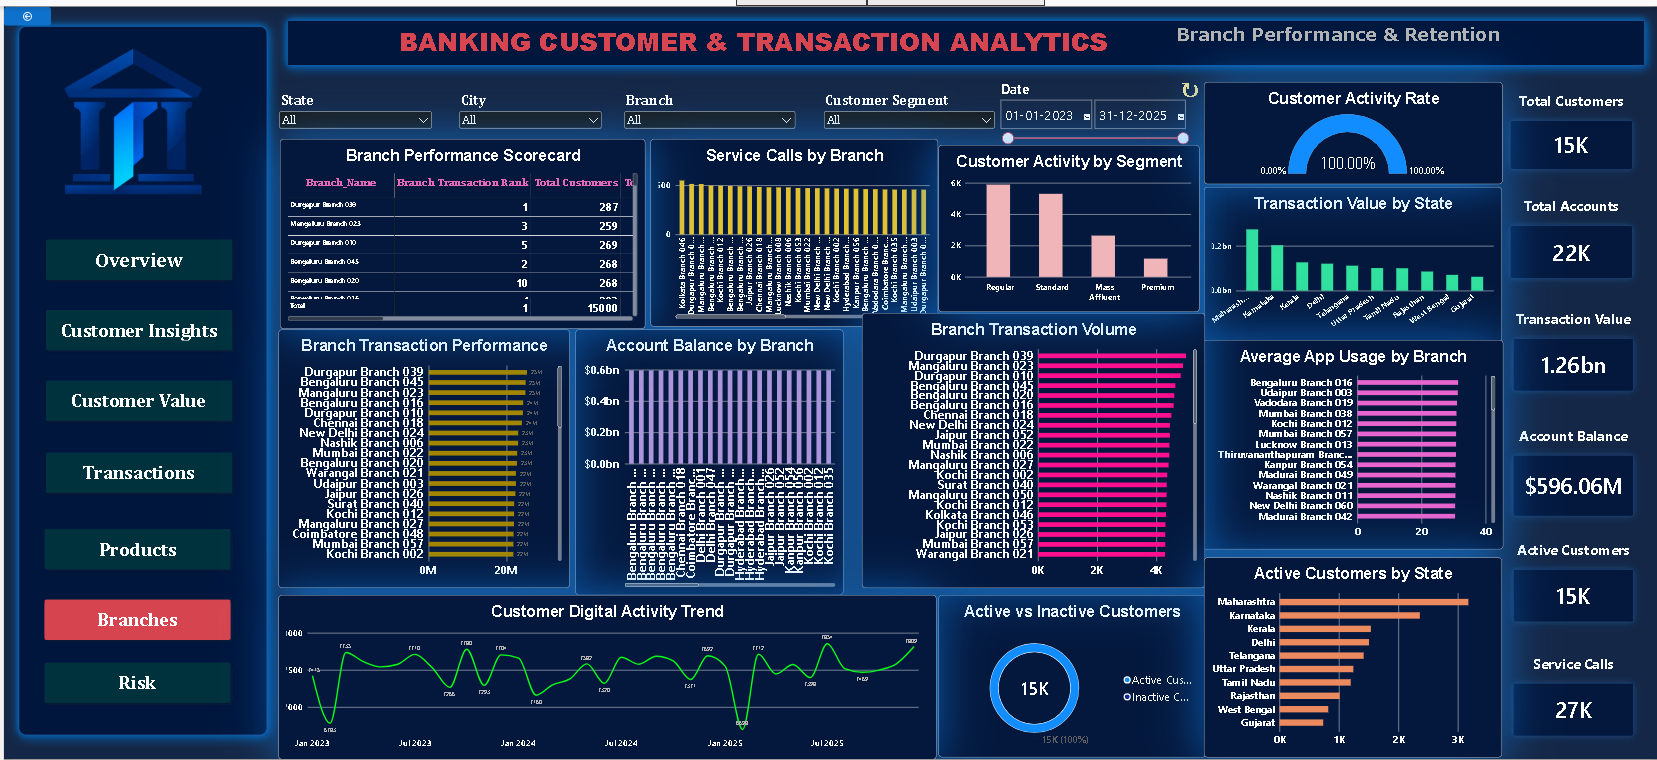

Layout of this report page (visuals, bound fields, positions):
{"tool":"powerbi","page":{"name":"Branch Performance & Retention","canvas":[3520,1600],"ordinal":5},"visuals":[{"type":"cardVisual","title":"Transaction Value","fields":{"Data":["Fact_Transactions.Total Transaction Amount"]},"box":[3191.5,642.6,295.3,195.4],"z":0},{"type":"clusteredColumnChart","title":"Account Balance by Branch","fields":{"Category":["Dim_Branches.Branch_Name"],"Y":["Dim_Accounts.Total Account Balance"]},"box":[1215,685,570,565],"z":1000},{"type":"donutChart","title":"Active vs Inactive Customers","fields":{"Y":["Dim_Customers.Active Customers","Dim_Customers.Inactive Customers"]},"box":[1990,1250,570,345],"z":2000},{"type":"shape","box":[5,15,578.8,1558.8],"z":3000},{"type":"shape","box":[578.6,3.6,2939.3,146.4],"z":4000},{"type":"textbox","box":[839.3,35.7,2175,82.1],"z":5000},{"type":"textbox","box":[2493.2,35.1,801.3,86.2],"z":6000},{"type":"image","box":[75,78.6,403.6,335.7],"z":7000},{"type":"cardVisual","title":"Total Accounts","fields":{"Data":["Dim_Accounts.Total Accounts"]},"box":[3187.1,403.8,299.6,195.4],"z":8000},{"type":"cardVisual","title":"Active Customers","fields":{"Data":["Dim_Customers.Active Customers"]},"box":[3191.5,1133.3,295.3,195.4],"z":9000},{"type":"cardVisual","title":"Total Customers","fields":{"Data":["Dim_Customers.Total Customers"]},"box":[3187.1,178,299.6,186.7],"z":10000},{"type":"cardVisual","title":"Account Balance","fields":{"Data":["Dim_Accounts.Total Account Balance"]},"box":[3191.5,890.1,295.3,212.8],"z":11000},{"type":"slicer","title":"Choose Date Between","fields":{"Values":["Dim_Date.Date"]},"box":[2114.6,156.3,412.5,247.5],"z":12000},{"type":"actionButton","box":[2492.4,138.9,60.8,78.2],"z":13000},{"type":"actionButton","title":"OVERVIEW","box":[80,485,415,105],"z":14000},{"type":"actionButton","title":"OVERVIEW","box":[80,635,415,105],"z":15000},{"type":"actionButton","title":"OVERVIEW","box":[80,785,415,105],"z":16000},{"type":"actionButton","title":"OVERVIEW","box":[80,940,415,105],"z":17000},{"type":"actionButton","title":"OVERVIEW","box":[78.2,1102.9,415,105],"z":18000},{"type":"actionButton","box":[0,0,100,40],"z":19000},{"type":"slicer","fields":{"Values":["Dim_Branches.Branch_Name"]},"box":[1315.7,178,373.4,134.6],"z":20000},{"type":"slicer","fields":{"Values":["Dim_Branches.State"]},"box":[581.8,178,334.3,134.6],"z":21000},{"type":"slicer","fields":{"Values":["Dim_Branches.City"]},"box":[964,178,312.6,134.6],"z":22000},{"type":"slicer","fields":{"Values":["Dim_Customers.Customer_Segment"]},"box":[1741.2,178,373.4,134.6],"z":23000},{"type":"actionButton","title":"OVERVIEW","box":[78.2,1250.5,415,105],"z":24000},{"type":"actionButton","title":"OVERVIEW","box":[78.2,1385.1,415,105],"z":25000},{"type":"clusteredColumnChart","title":"Service Calls by Branch","fields":{"Category":["Dim_Branches.Branch_Name"],"Y":["Fact_Customer_Activity.Total Service Calls"]},"box":[1376.5,282.2,612.2,399.5],"z":26000},{"type":"cardVisual","title":"Service Calls","fields":{"Data":["Fact_Customer_Activity.Total Service Calls"]},"box":[3191.5,1376.5,295.3,195.4],"z":27000},{"type":"clusteredColumnChart","title":"Transaction Value by State","fields":{"Category":["Dim_Branches.State"],"Y":["Fact_Transactions.Total Transaction Amount"]},"box":[2553.2,382.1,634,330],"z":28000},{"type":"clusteredBarChart","title":"Average App Usage by Branch","fields":{"Category":["Dim_Branches.Branch_Name"],"Y":["Fact_Customer_Activity.Average App Usage Minutes"]},"box":[2550,710,640,445],"z":29000},{"type":"clusteredBarChart","title":"Branch Transaction Volume","fields":{"Category":["Dim_Branches.Branch_Name"],"Y":["Fact_Transactions.Total Transactions"]},"box":[1825,650,730,585],"z":30000},{"type":"clusteredColumnChart","title":"Customer Activity by Segment","fields":{"Category":["Dim_Customers.Customer_Segment"],"Y":["Dim_Customers.Active Customers"]},"box":[1990,295,555,355],"z":32000},{"type":"clusteredBarChart","title":"Branch Transaction Performance","fields":{"Category":["Dim_Branches.Branch_Name"],"Y":["Fact_Transactions.Total Transaction Amount"]},"box":[585,685,620,550],"z":33000},{"type":"gauge","title":"Customer Activity Rate","fields":{"Y":["Dim_Customers.Active Customer Rate %"]},"box":[2552.7,158.9,635.5,217.1],"z":34000},{"type":"pivotTable","title":"Branch Performance Scorecard","fields":{"Rows":["Dim_Branches.Branch_Name"],"Values":["Dim_Branches.Branch Transaction Rank","Dim_Customers.Total Customers","Dim_Accounts.Total Accounts","Fact_Transactions.Total Transactions","Fact_Transactions.Total Transaction Amount","Dim_Accounts.Total Account Balance","Dim_Customers.Active Customers","Fact_Customer_Activity.Total Service Calls"]},"box":[586.2,282.2,777.2,403.8],"z":36000},{"type":"clusteredBarChart","title":"Active Customers by State","fields":{"Category":["Dim_Branches.State"],"Y":["Dim_Customers.Active Customers"]},"box":[2555,1170,634,425.5],"z":37001},{"type":"lineChart","title":"Customer Digital Activity Trend","fields":{"Category":["Dim_Date.Month_Year.Variation.Date Hierarchy.Year","Dim_Date.Month_Year.Variation.Date Hierarchy.Quarter","Dim_Date.Month_Year.Variation.Date Hierarchy.Month","Dim_Date.Month_Year.Variation.Date Hierarchy.Day"],"Y":["Fact_Customer_Activity.Total Login Count"]},"box":[585,1250,1400,350],"z":37002}]}

Visuals, with their boxes on the page's 3520x1600 design canvas (x1, y1, x2, y2). These are canvas units, not pixel positions in the 1657x760 screenshot, which may show the page scaled, cropped or inside an application window:
"Transaction Value" cardVisual: select_region(3192, 643, 3487, 838)
"Account Balance by Branch" clusteredColumnChart: select_region(1215, 685, 1785, 1250)
"Active vs Inactive Customers" donutChart: select_region(1990, 1250, 2560, 1595)
shape: select_region(5, 15, 584, 1574)
shape: select_region(579, 4, 3518, 150)
textbox: select_region(839, 36, 3014, 118)
textbox: select_region(2493, 35, 3294, 121)
image: select_region(75, 79, 479, 414)
"Total Accounts" cardVisual: select_region(3187, 404, 3487, 599)
"Active Customers" cardVisual: select_region(3192, 1133, 3487, 1329)
"Total Customers" cardVisual: select_region(3187, 178, 3487, 365)
"Account Balance" cardVisual: select_region(3192, 890, 3487, 1103)
"Choose Date Between" slicer: select_region(2115, 156, 2527, 404)
actionButton: select_region(2492, 139, 2553, 217)
"OVERVIEW" actionButton: select_region(80, 485, 495, 590)
"OVERVIEW" actionButton: select_region(80, 635, 495, 740)
"OVERVIEW" actionButton: select_region(80, 785, 495, 890)
"OVERVIEW" actionButton: select_region(80, 940, 495, 1045)
"OVERVIEW" actionButton: select_region(78, 1103, 493, 1208)
actionButton: select_region(0, 0, 100, 40)
slicer - Dim_Branches.Branch_Name: select_region(1316, 178, 1689, 313)
slicer - Dim_Branches.State: select_region(582, 178, 916, 313)
slicer - Dim_Branches.City: select_region(964, 178, 1277, 313)
slicer - Dim_Customers.Customer_Segment: select_region(1741, 178, 2115, 313)
"OVERVIEW" actionButton: select_region(78, 1250, 493, 1356)
"OVERVIEW" actionButton: select_region(78, 1385, 493, 1490)
"Service Calls by Branch" clusteredColumnChart: select_region(1376, 282, 1989, 682)
"Service Calls" cardVisual: select_region(3192, 1376, 3487, 1572)
"Transaction Value by State" clusteredColumnChart: select_region(2553, 382, 3187, 712)
"Average App Usage by Branch" clusteredBarChart: select_region(2550, 710, 3190, 1155)
"Branch Transaction Volume" clusteredBarChart: select_region(1825, 650, 2555, 1235)
"Customer Activity by Segment" clusteredColumnChart: select_region(1990, 295, 2545, 650)
"Branch Transaction Performance" clusteredBarChart: select_region(585, 685, 1205, 1235)
"Customer Activity Rate" gauge: select_region(2553, 159, 3188, 376)
"Branch Performance Scorecard" pivotTable: select_region(586, 282, 1363, 686)
"Active Customers by State" clusteredBarChart: select_region(2555, 1170, 3189, 1596)
"Customer Digital Activity Trend" lineChart: select_region(585, 1250, 1985, 1600)
